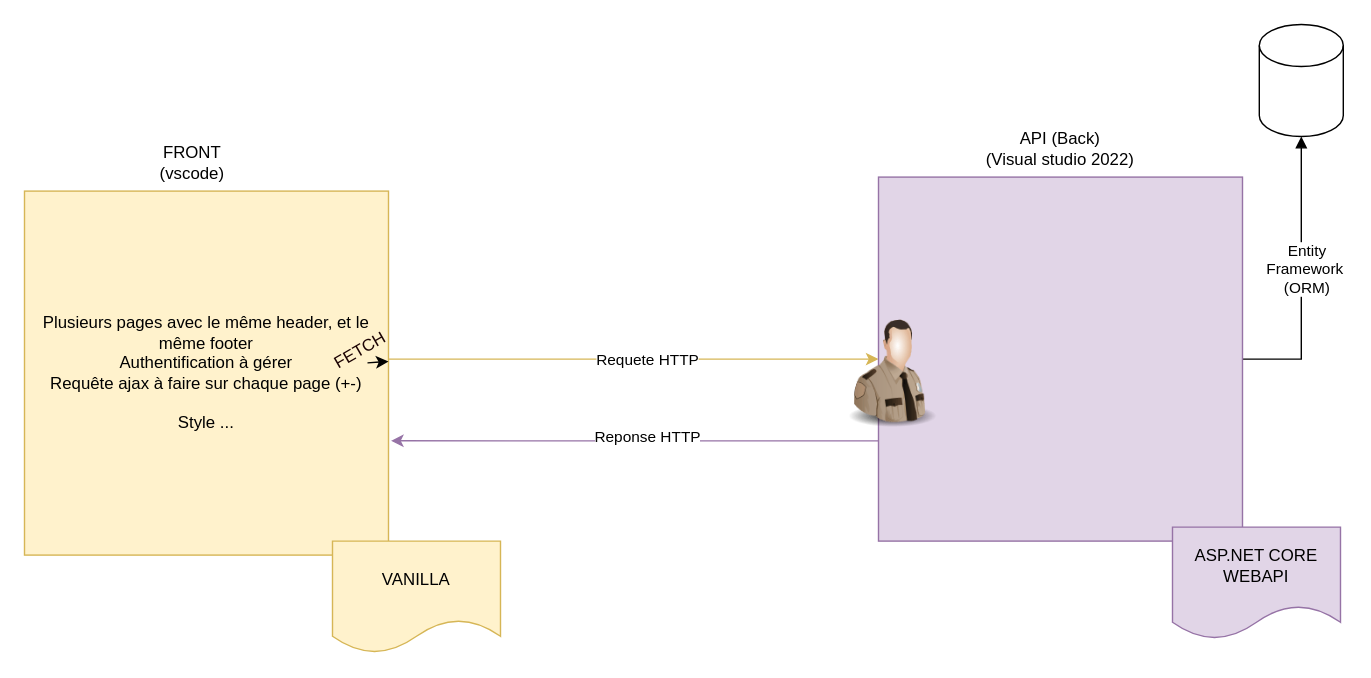
Image size: 1371x678. Some labels were removed from this diagram. The box of each missing label's shape, as (x1, y1, x2, y2) in pixels:
BDD: (1258, 23, 1343, 136)
CORS policy AllowAnyone: (836, 316, 948, 428)
